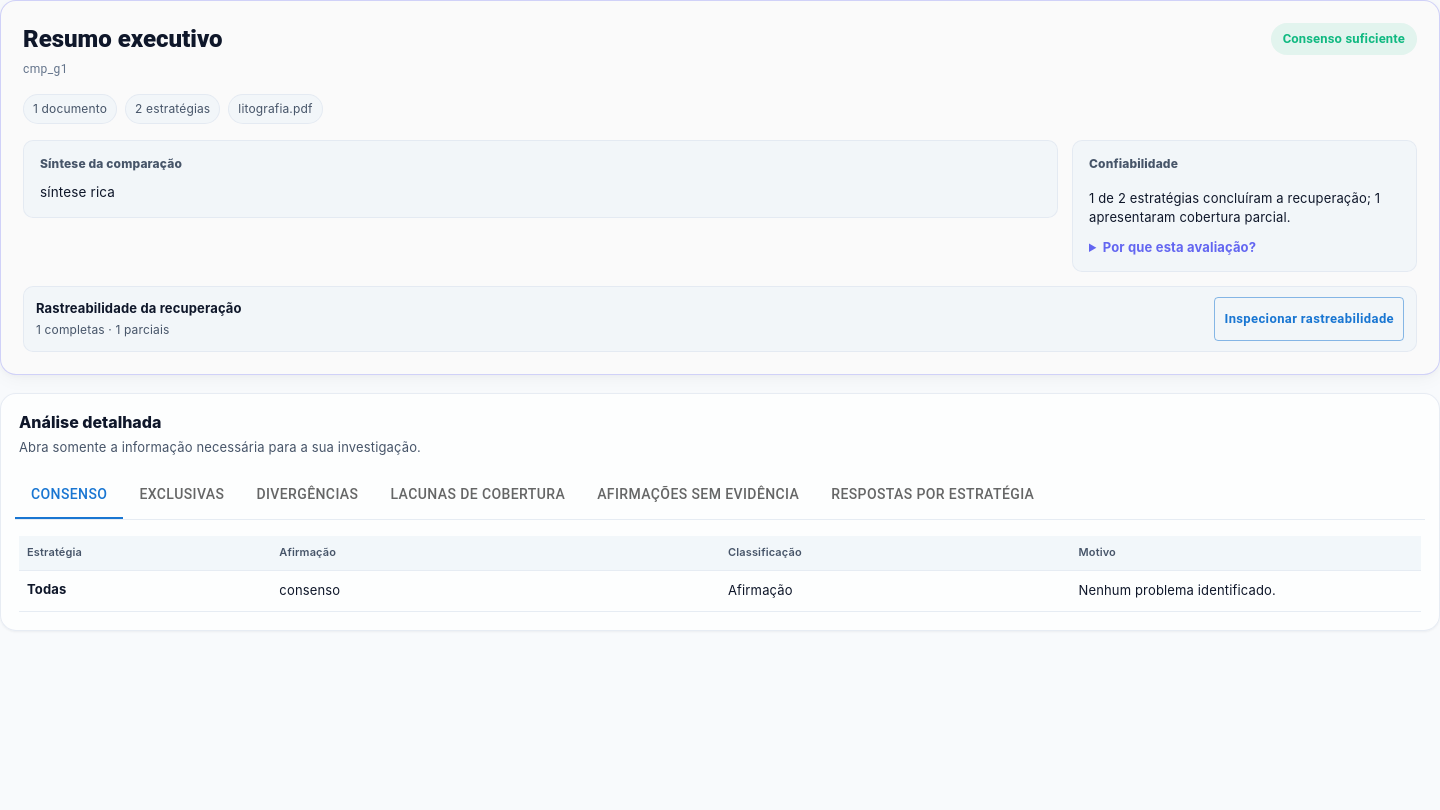
it: Grade visual da comparação (ComparisonDetailGrid) › exibe respostas brutas e status por estratégia
Click the tab "Respostas por estratégia". click: (933, 495)
box: [815,471,1050,519]
(page scrolled)
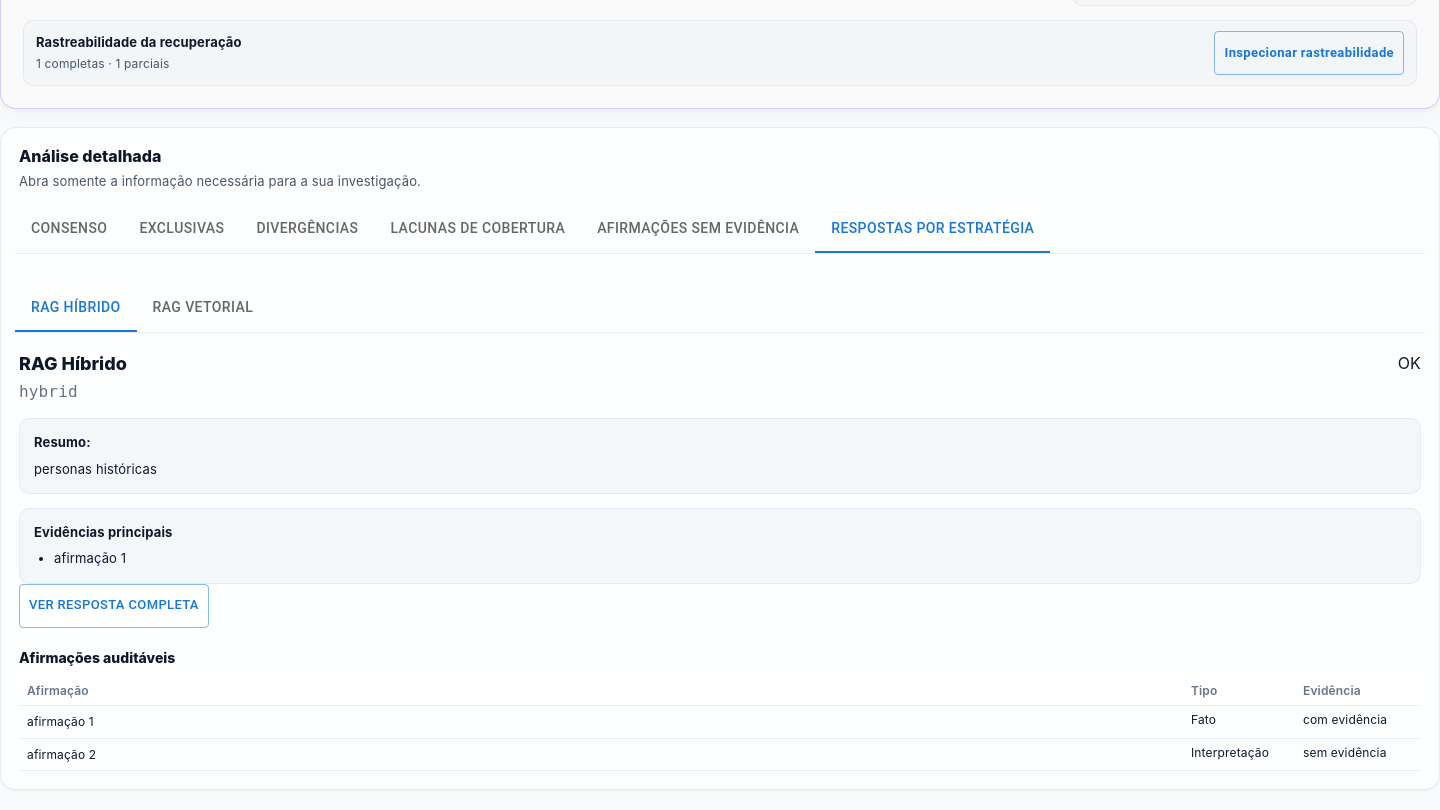
Click the button "Ver resposta completa". click: (114, 606)
box: [19,584,209,628]
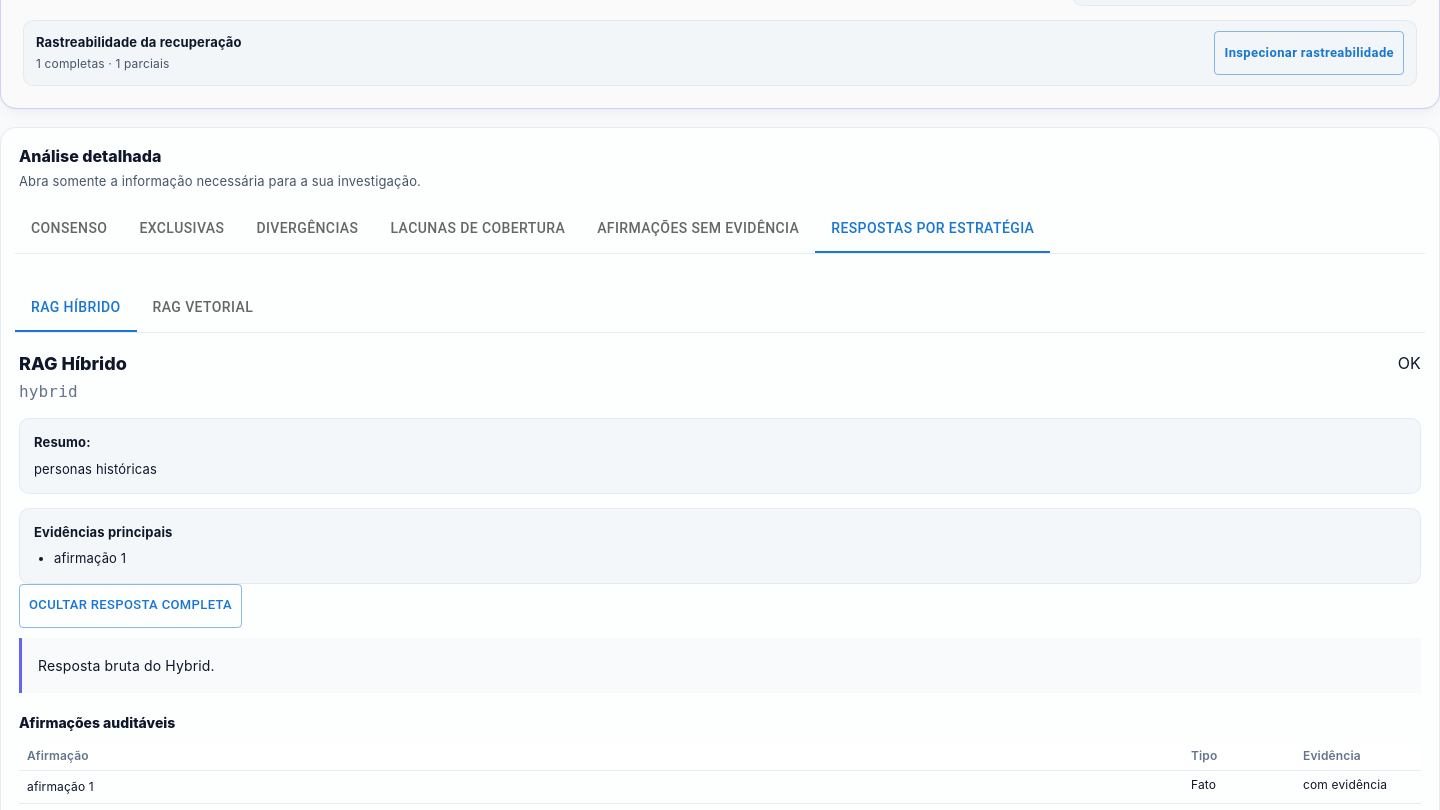
Check: the text "Resposta bruta do Hybrid." is shown, box [38,656,215,674]
Click the tab "RAG Vetorial". click: (203, 308)
box: [137,284,269,332]
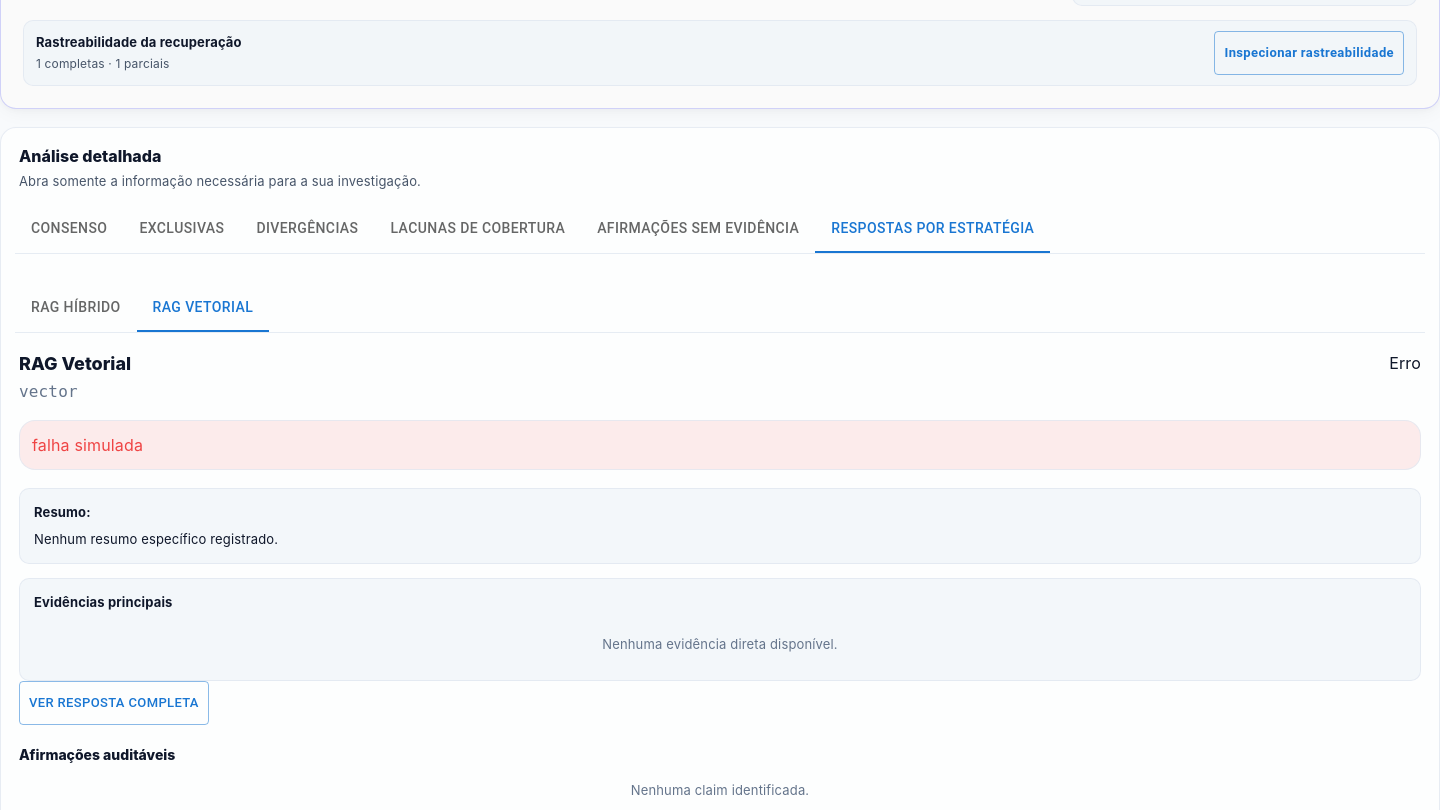
Check: the text "falha simulada" is shown, box [19,420,1421,470]
